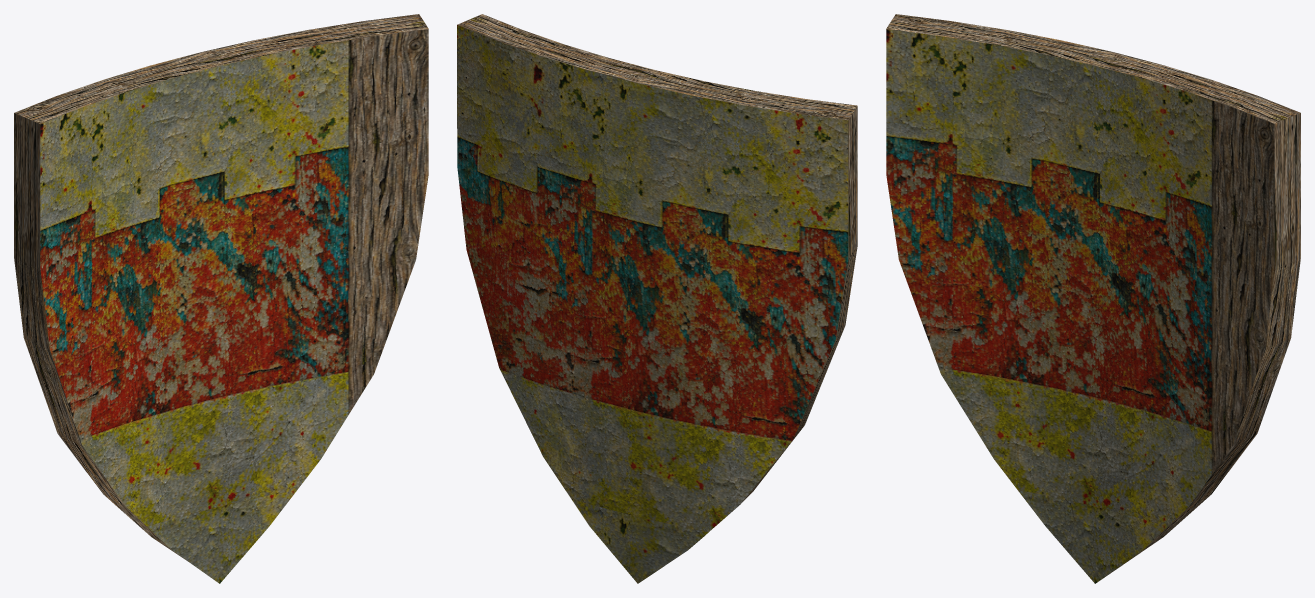
The model's file is mm9_deco_shield1.glb.
The picture shows the model from 3 angles, left to right: view 1: azimuth 30°, elevation 25°; view 2: azimuth 150°, elevation 25°; view 3: azimuth 330°, elevation 25°; orthographic projection. The views are drawn at different scales.
Visible parts, largest first — view 1: Shield1; view 2: Shield1; view 3: Shield1.
Boxes of the visible parts, left/top/right/bottom form: Shield1: left=14, top=14, right=428, bottom=583; Shield1: left=457, top=14, right=857, bottom=583; Shield1: left=886, top=14, right=1300, bottom=583.
Size of the model in its own units: 0.9023 by 1.1 by 0.1288.
1 material, 1 textured.
